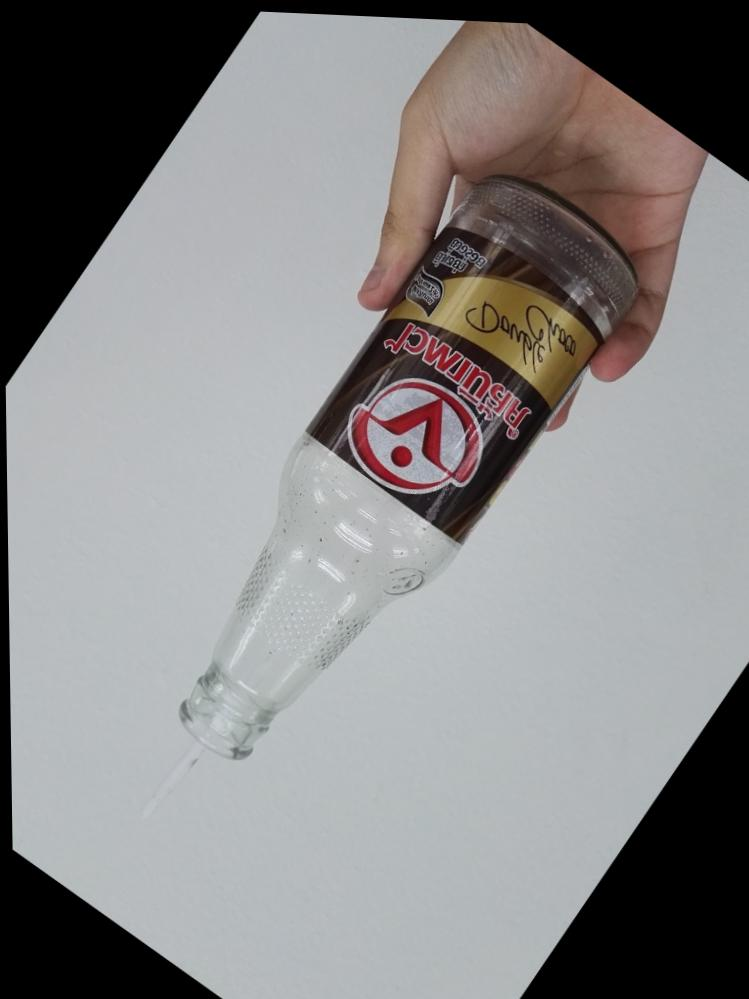glass: (115, 131, 674, 833)
